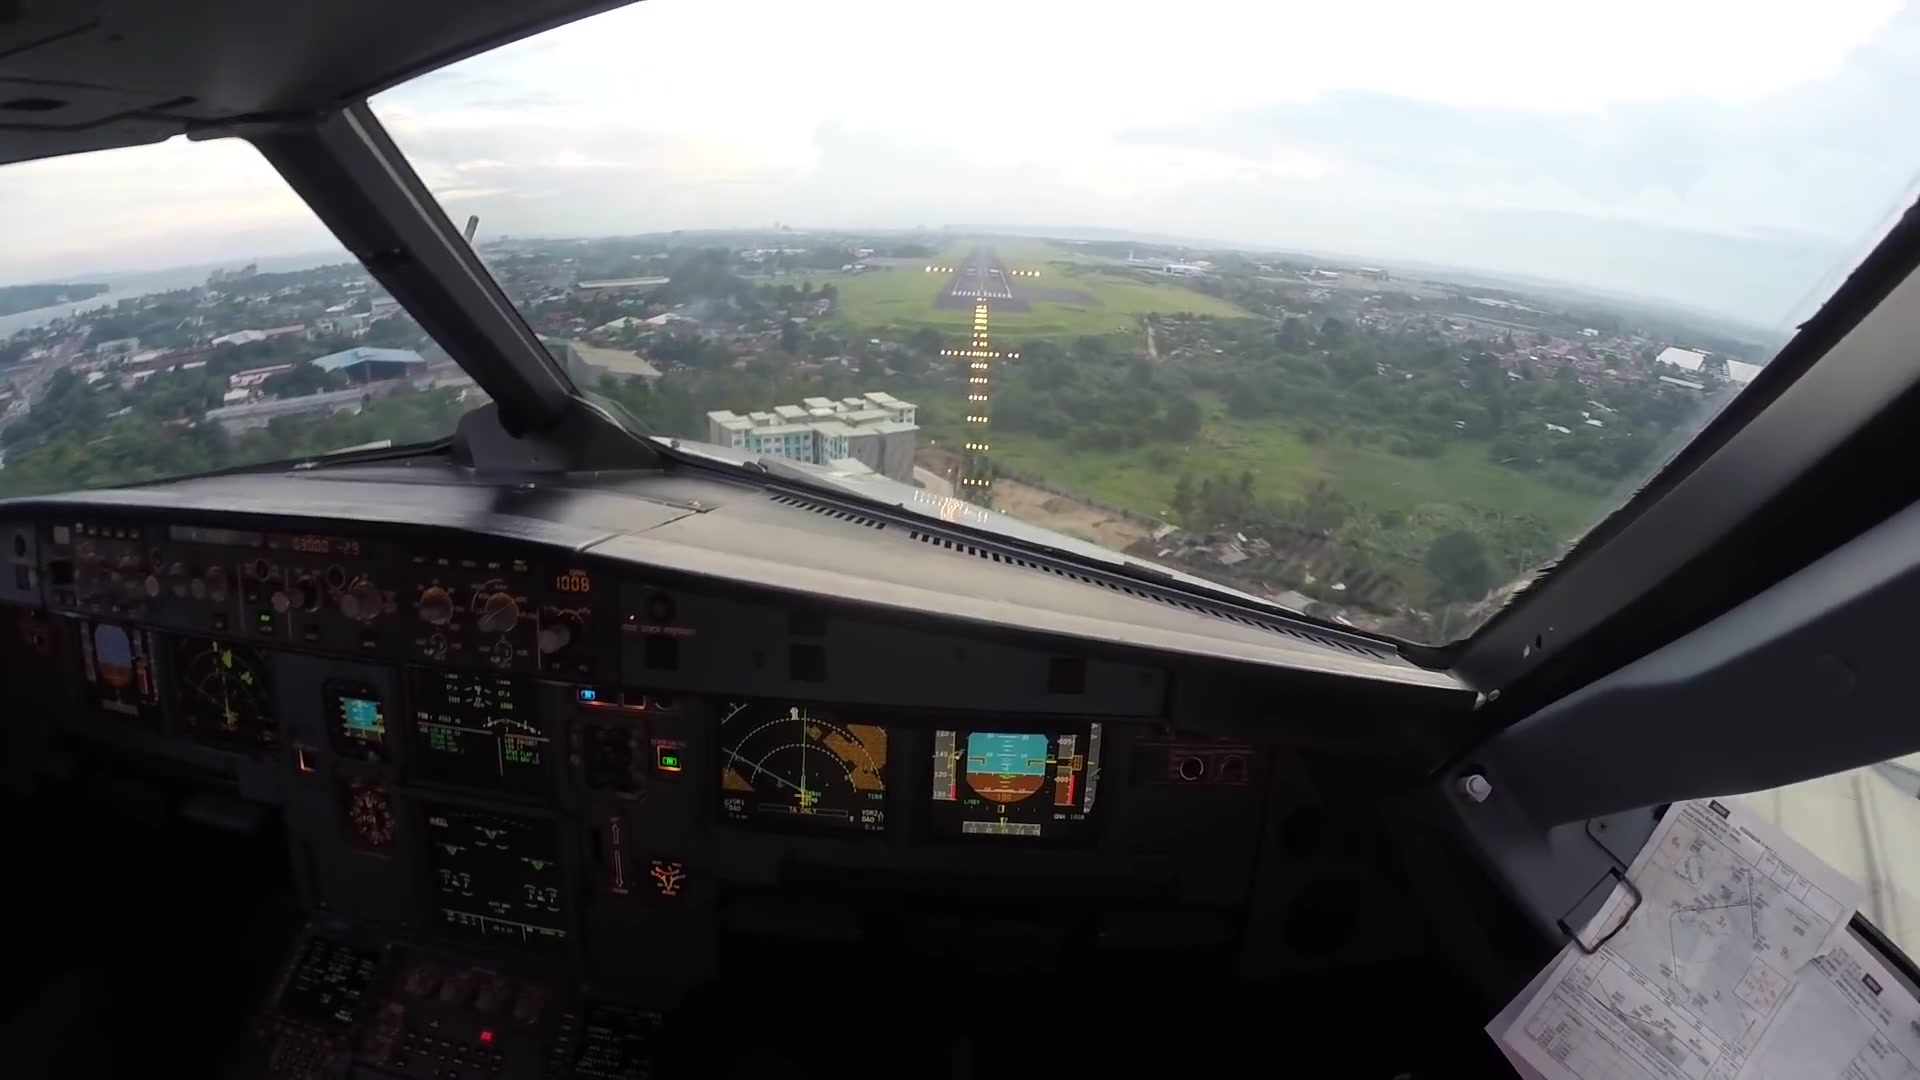entrance: (949, 289, 1013, 301)
runway: (939, 241, 1027, 309)
